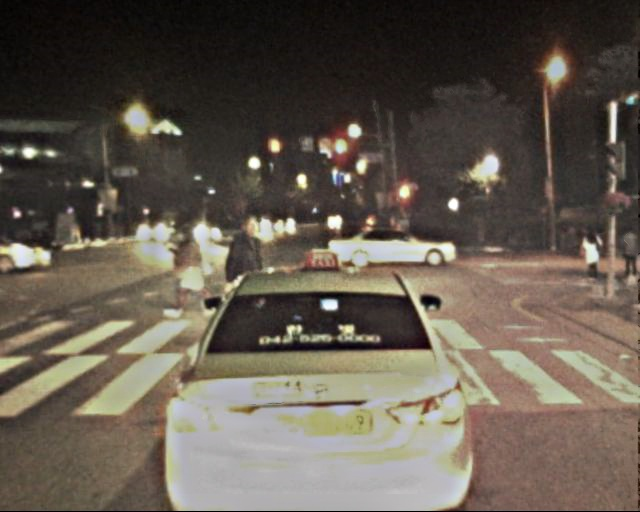person: (213, 217, 270, 356), (168, 224, 207, 319), (579, 227, 604, 288), (620, 230, 640, 284)
